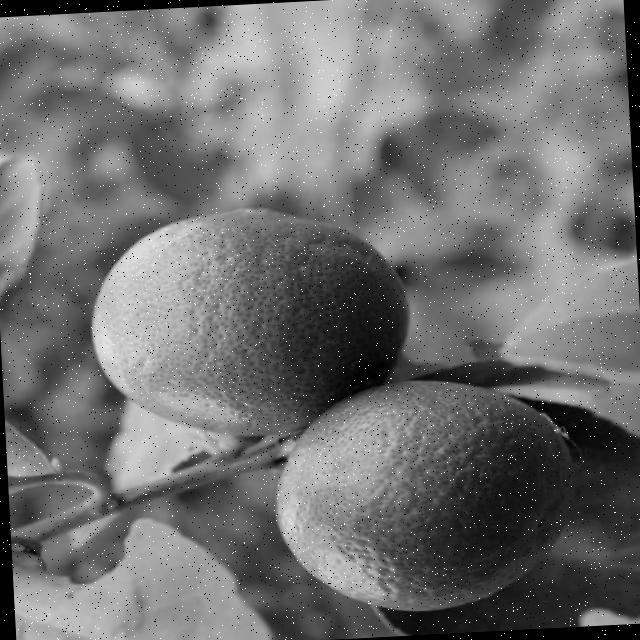Unripe: (82, 203, 416, 440), (272, 380, 581, 616)
